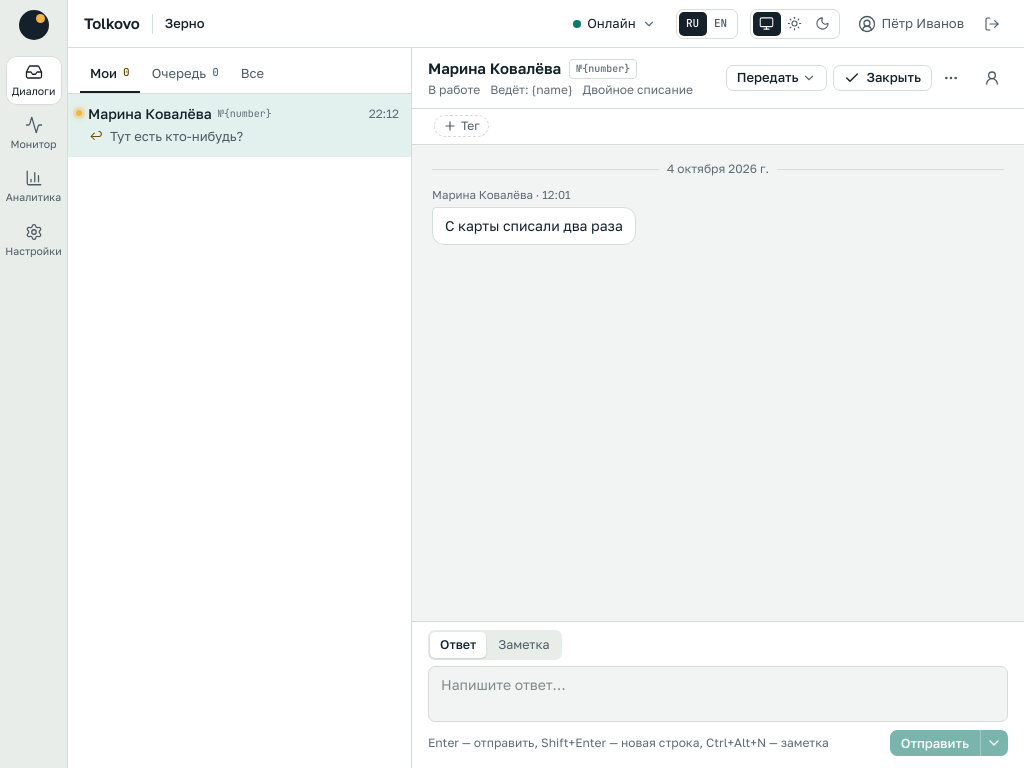
Test: conversation actions › transfers through the menu and moves the rest under ⋯
Click the button "Передать": (777, 78) left=726, top=65, right=828, bottom=91
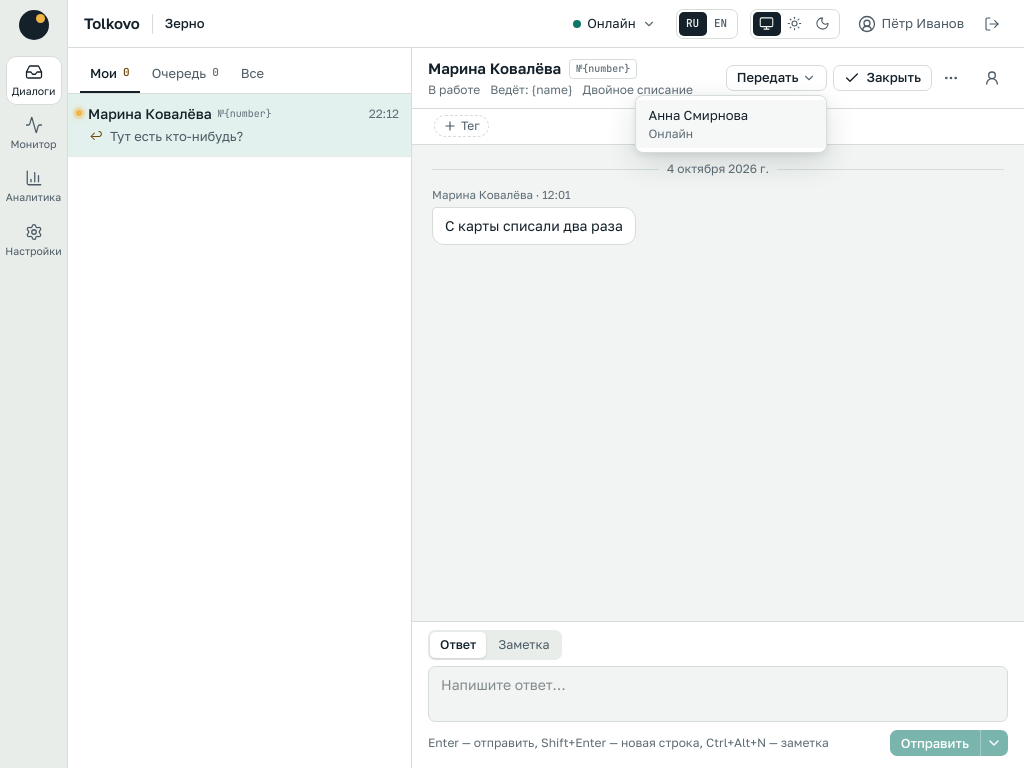
Press Escape
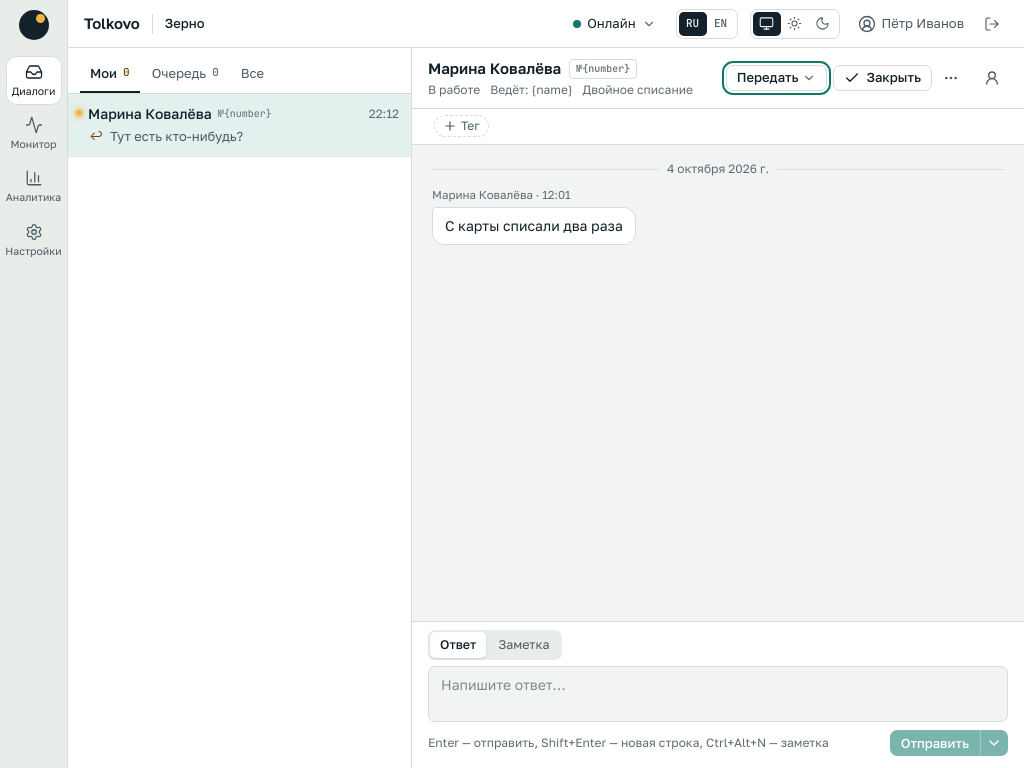
expect the menu is gone: met
Click the button named "Ещё действия": (951, 78) left=938, top=65, right=964, bottom=91
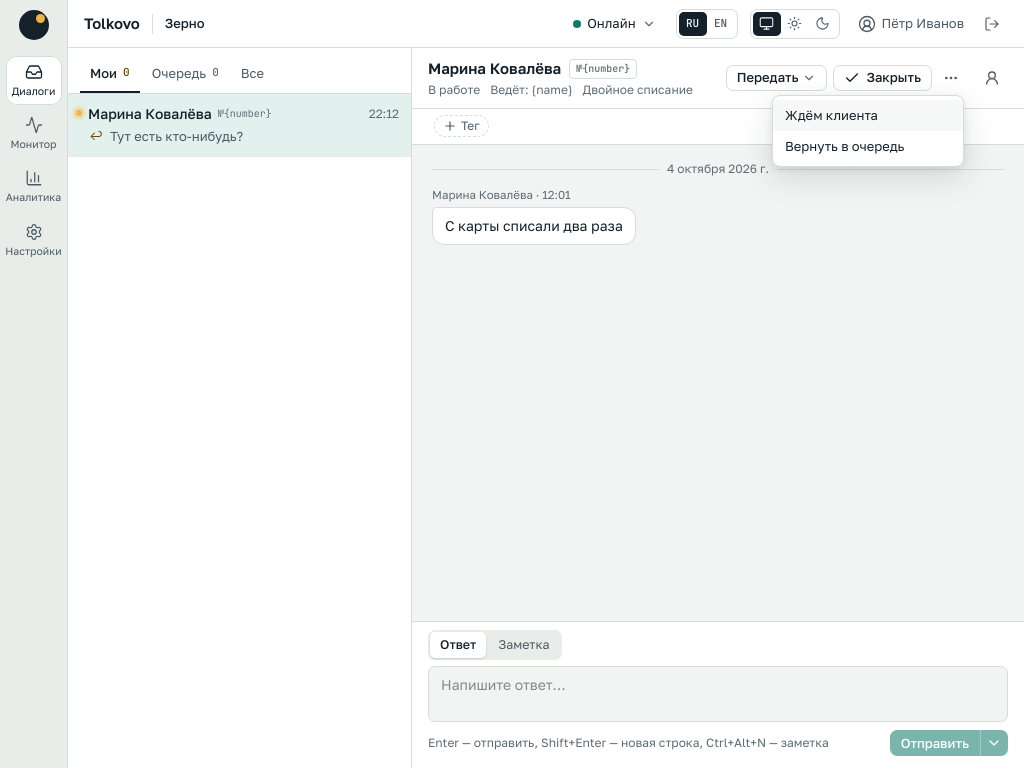
expect the menu item "Ждём клиента" is shown: met, box left=773, top=100, right=963, bottom=131
expect the menu item "Вернуть в очередь" is shown: met, box left=773, top=131, right=963, bottom=162
Press Escape
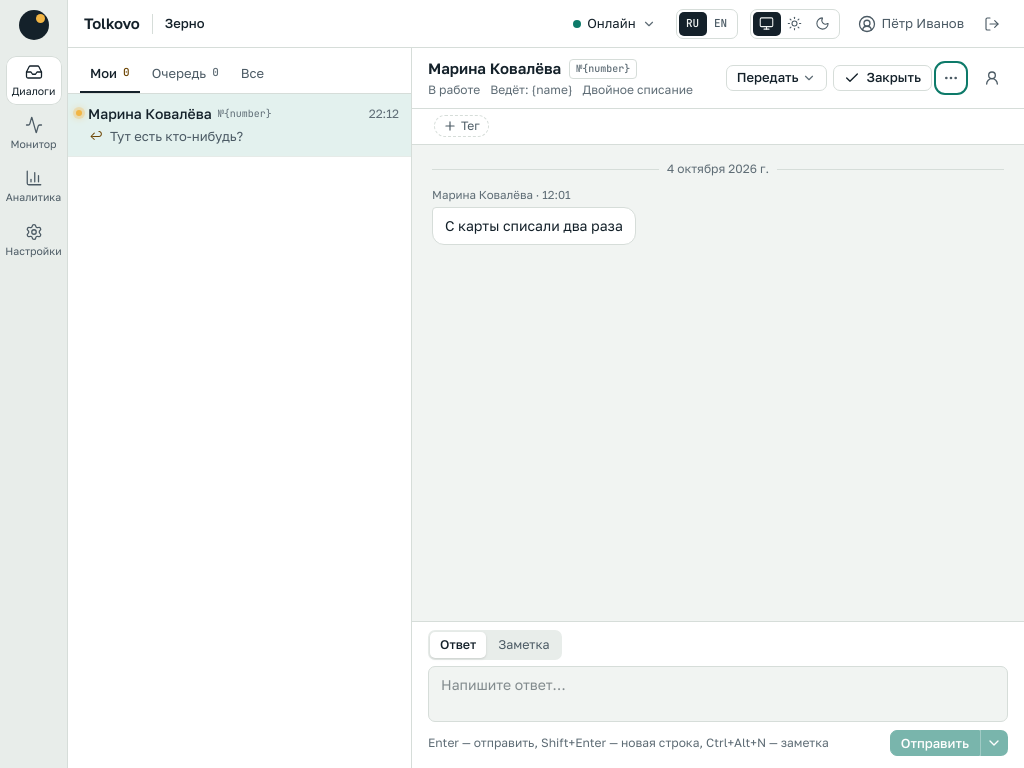
Click the button "Передать": (777, 78) left=726, top=65, right=828, bottom=91
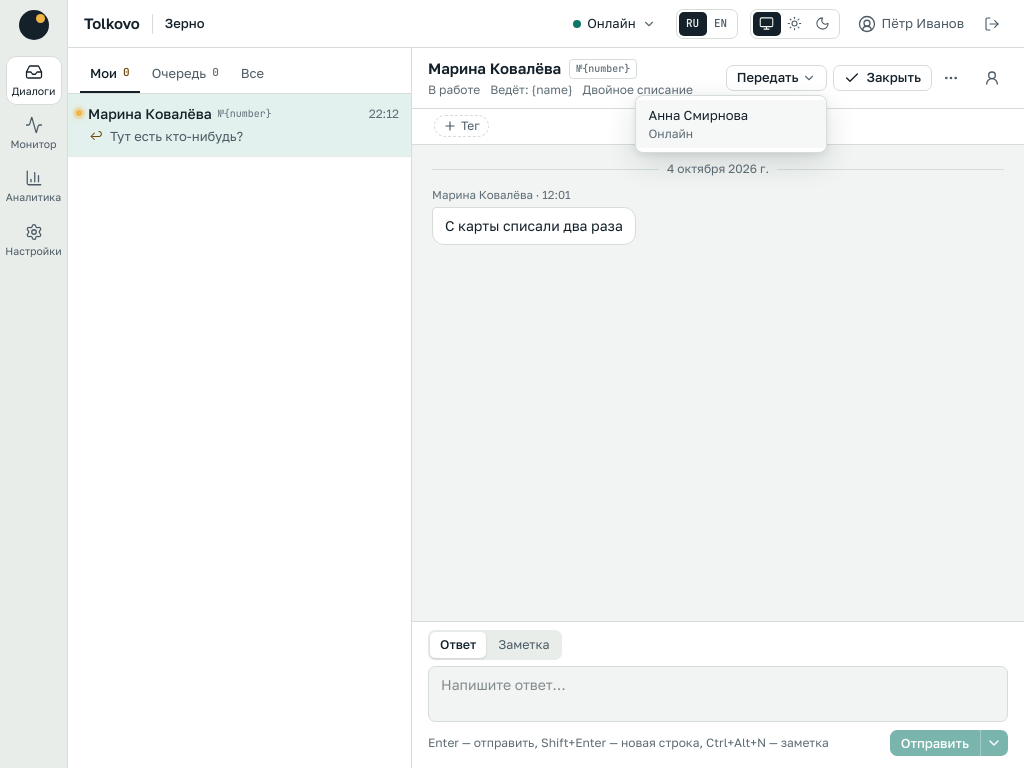
Click the menu item named "Анна Смирнова, Онлайн": (732, 124) left=636, top=100, right=826, bottom=148
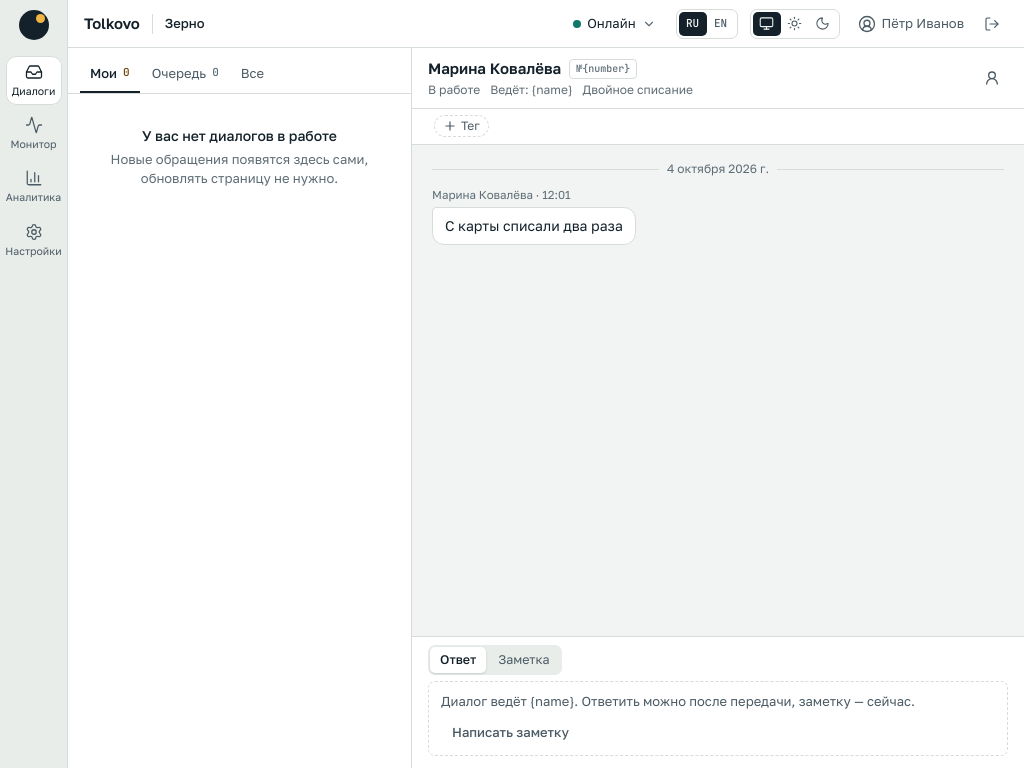
expect the button "Закрыть" is gone: met
